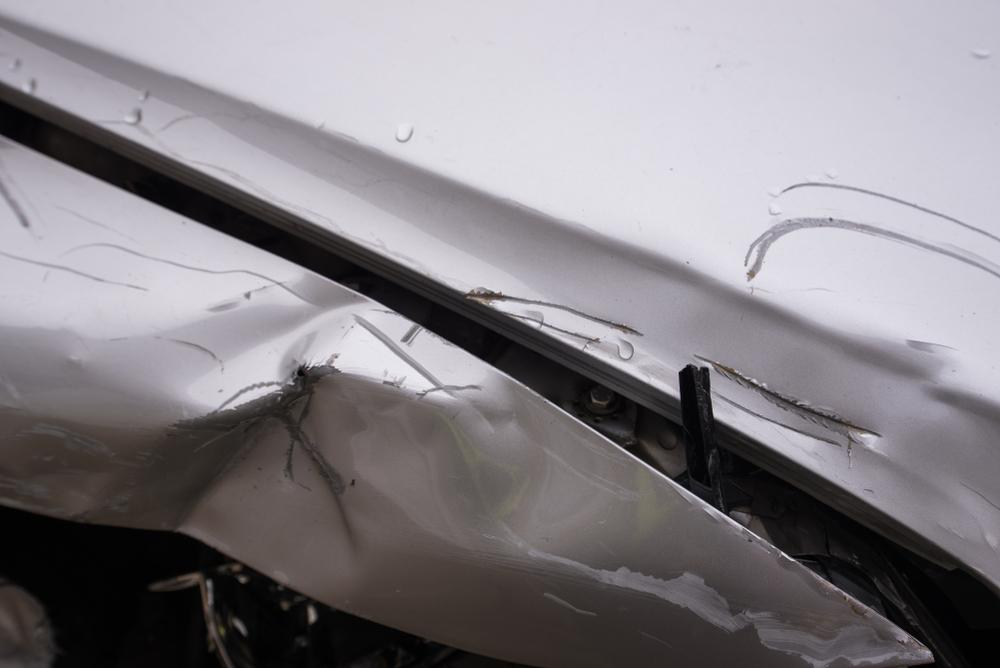dent: (145, 273, 612, 603), (634, 289, 952, 488)
scratch: (539, 543, 935, 666), (0, 157, 279, 291), (742, 177, 1000, 287), (0, 386, 137, 525), (458, 288, 642, 348)
